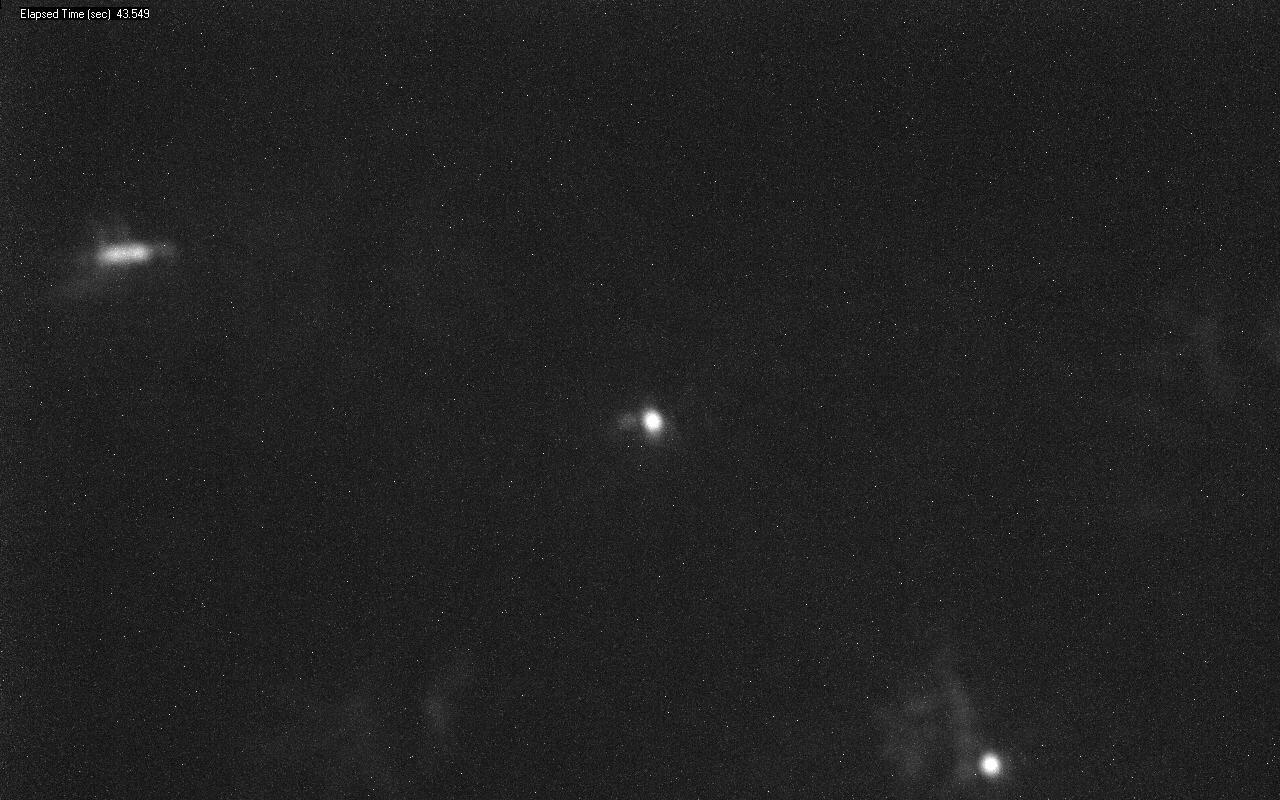Bead: (640, 408, 665, 441), (978, 752, 1001, 776)
